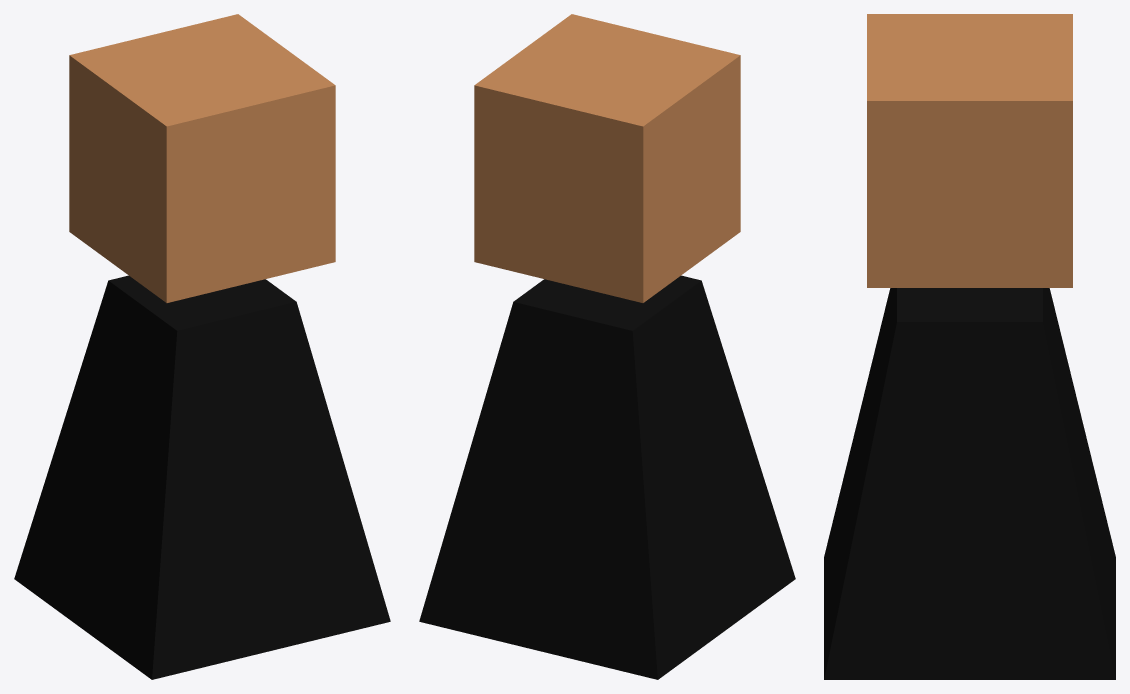
File: man.FBX
The picture shows the model from 3 angles, left to right: view 1: azimuth 30°, elevation 25°; view 2: azimuth 150°, elevation 25°; view 3: azimuth 270°, elevation 25°; orthographic projection. The views are drawn at different scales.
Visible parts, largest first — view 1: Cone001, Box001; view 2: Cone001, Box001; view 3: Cone001, Box001.
Boxes of the visible parts, <box> form: Cone001: <box>14,275,390,679</box>; Box001: <box>69,14,335,302</box>; Cone001: <box>419,275,795,679</box>; Box001: <box>474,14,740,302</box>; Cone001: <box>824,288,1115,679</box>; Box001: <box>867,14,1072,287</box>.
Bounding box in the file's own units: 28.28 × 60 × 28.28.
